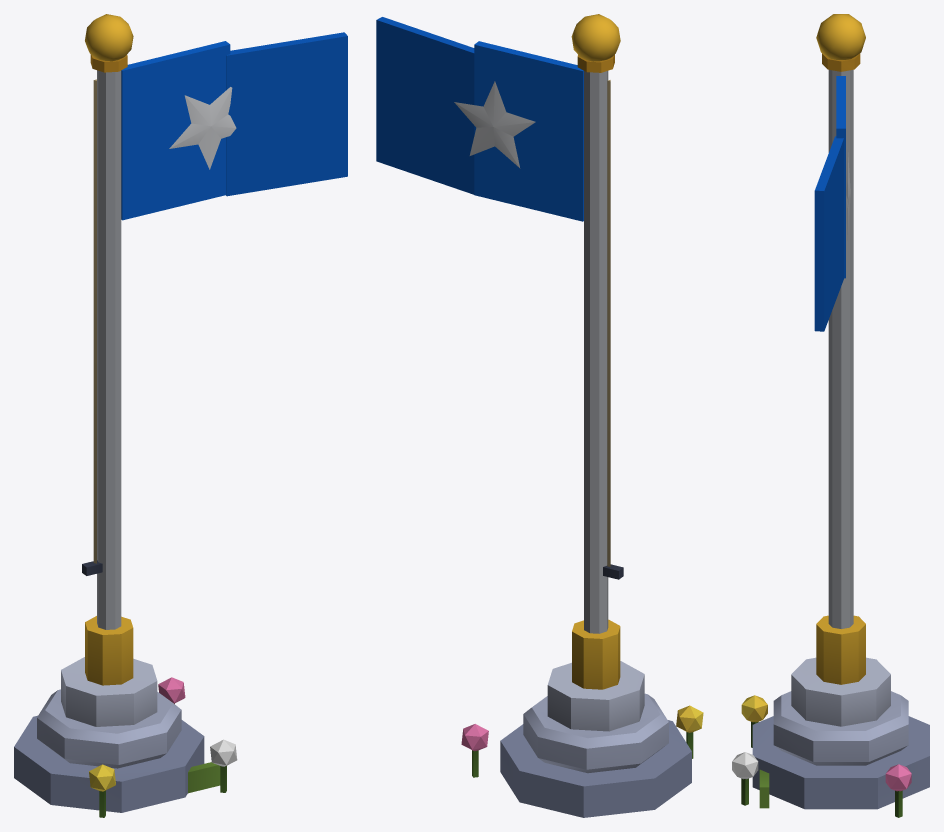
Rendered from b_flagge.glb.
3 renders of one model, left to right at view 1: azimuth 30°, elevation 25°; view 2: azimuth 150°, elevation 25°; view 3: azimuth 270°, elevation 25°, orthographic.
Visible parts, largest first — view 1: body, sway_flag; view 2: body, sway_flag; view 3: body, sway_flag.
Part boxes in pixels (x1,y1,x2,y2): body: [14, 14, 237, 817]; sway_flag: [121, 32, 347, 220]; body: [461, 14, 703, 817]; sway_flag: [376, 17, 583, 221]; body: [732, 14, 929, 817]; sway_flag: [814, 76, 850, 331].
Bounding box in the file's own units: 1.83 × 4.35 × 1.03.
